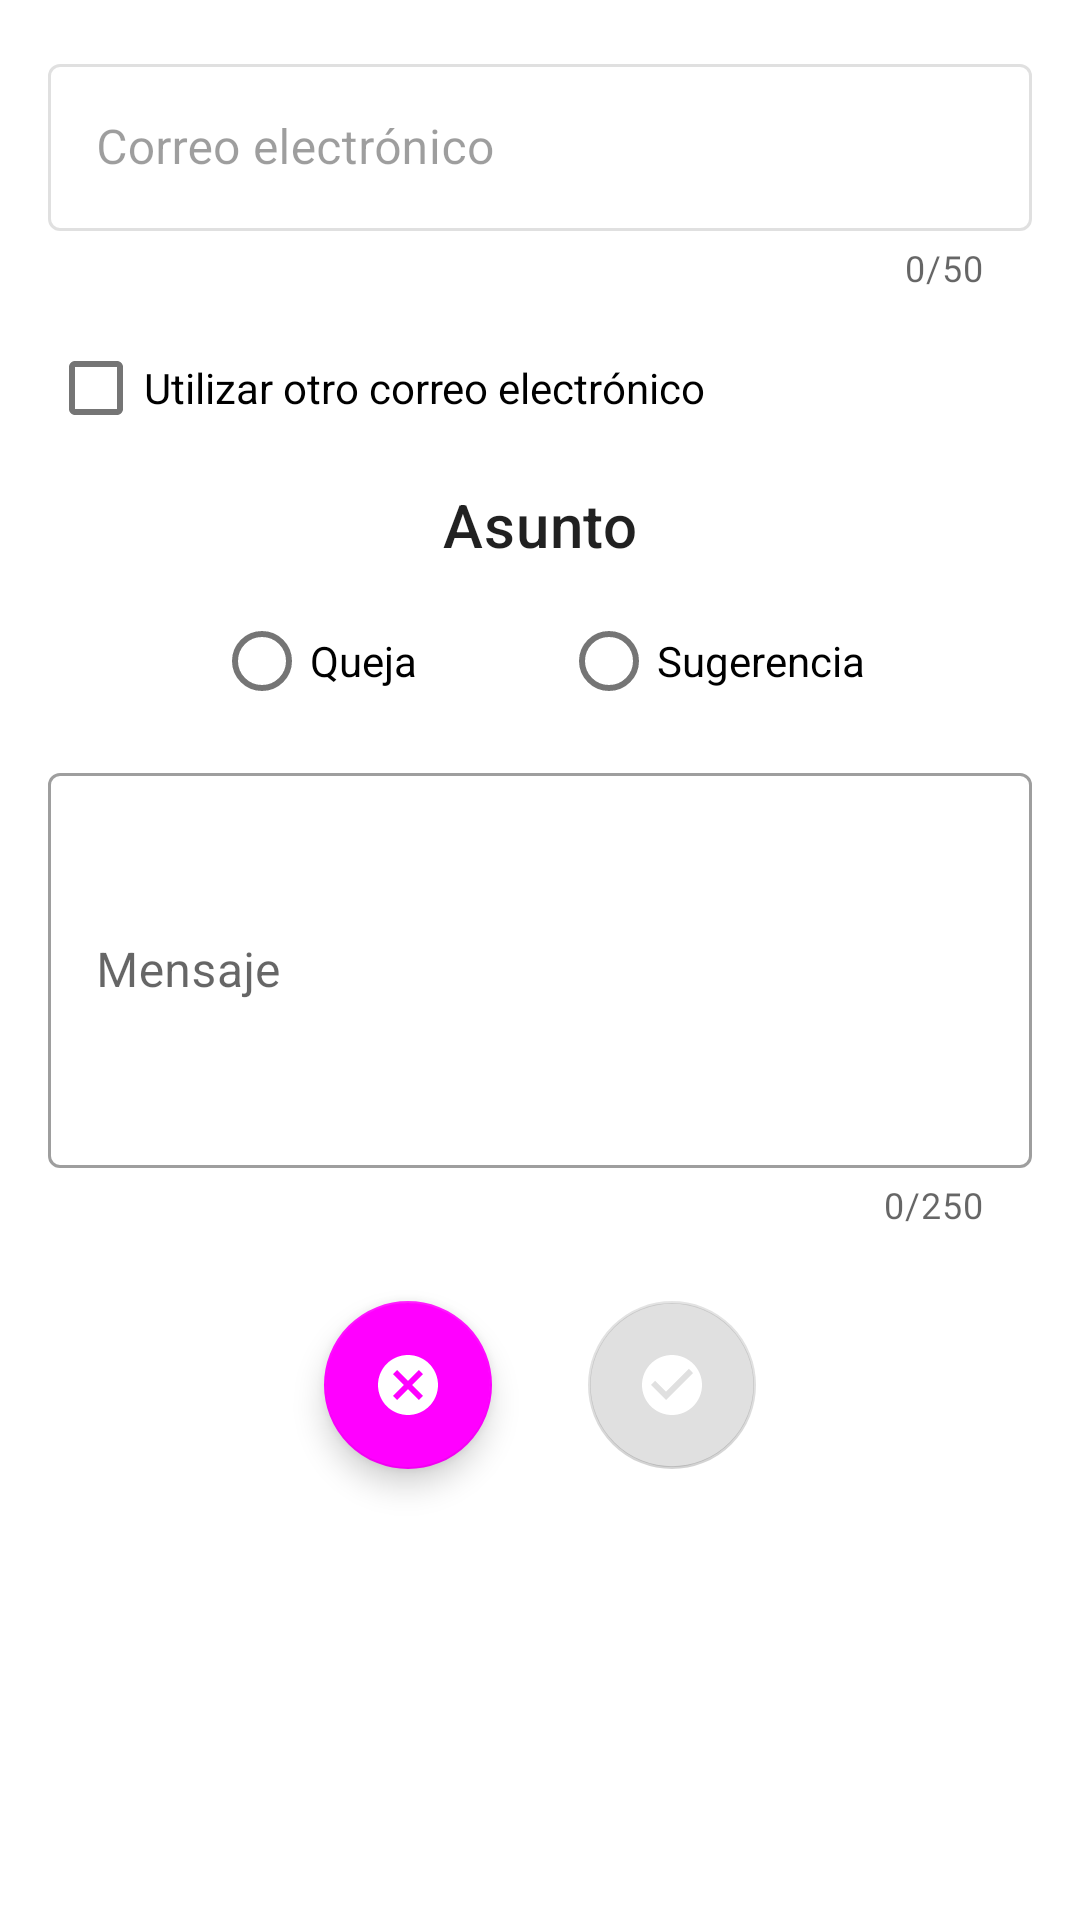

Named icons in this screenshot (1080px×1920px) and their bounding boxes, (x1, y1, x2, y2):
cancel: (324, 1301, 492, 1469)
check circle: (588, 1301, 756, 1469)
